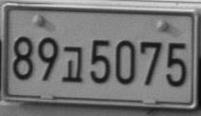0: (114, 39, 136, 85)
5: (165, 42, 188, 87), (89, 39, 111, 83)
7: (139, 41, 162, 86)
8: (11, 35, 33, 80)
9: (37, 36, 59, 80)
고: (61, 45, 83, 82)
